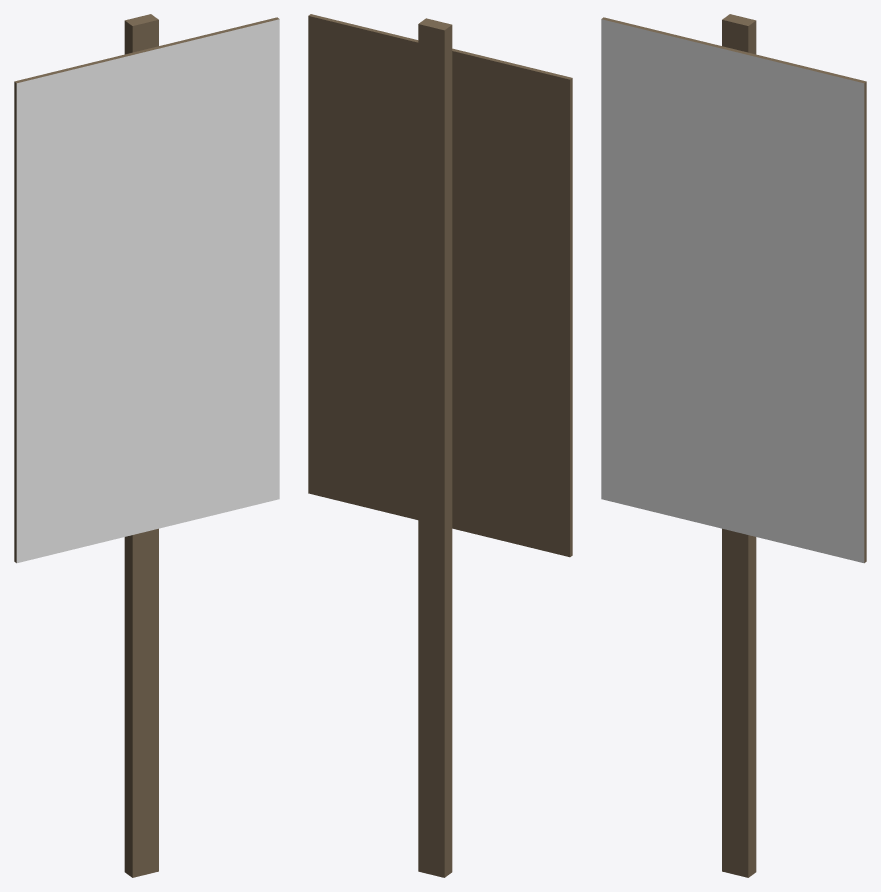
The model's file is protest_sign_v.fbx.
The picture shows the model from 3 angles, left to right: view 1: azimuth 30°, elevation 25°; view 2: azimuth 150°, elevation 25°; view 3: azimuth 330°, elevation 25°; orthographic projection.
Parts seen in each view (by area): view 1: SIGN-V; view 2: SIGN-V; view 3: SIGN-V.
Part boxes in pixels (x1,y1,x2,y2): SIGN-V: [14, 14, 279, 877]; SIGN-V: [308, 14, 572, 877]; SIGN-V: [601, 14, 866, 877].
Size of the model in its own units: 39.97 by 124 by 2.73.
Materials: 2 (1 with a texture image).
